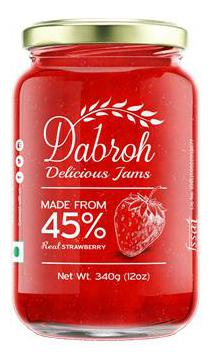JAR: (8, 14, 203, 343)
